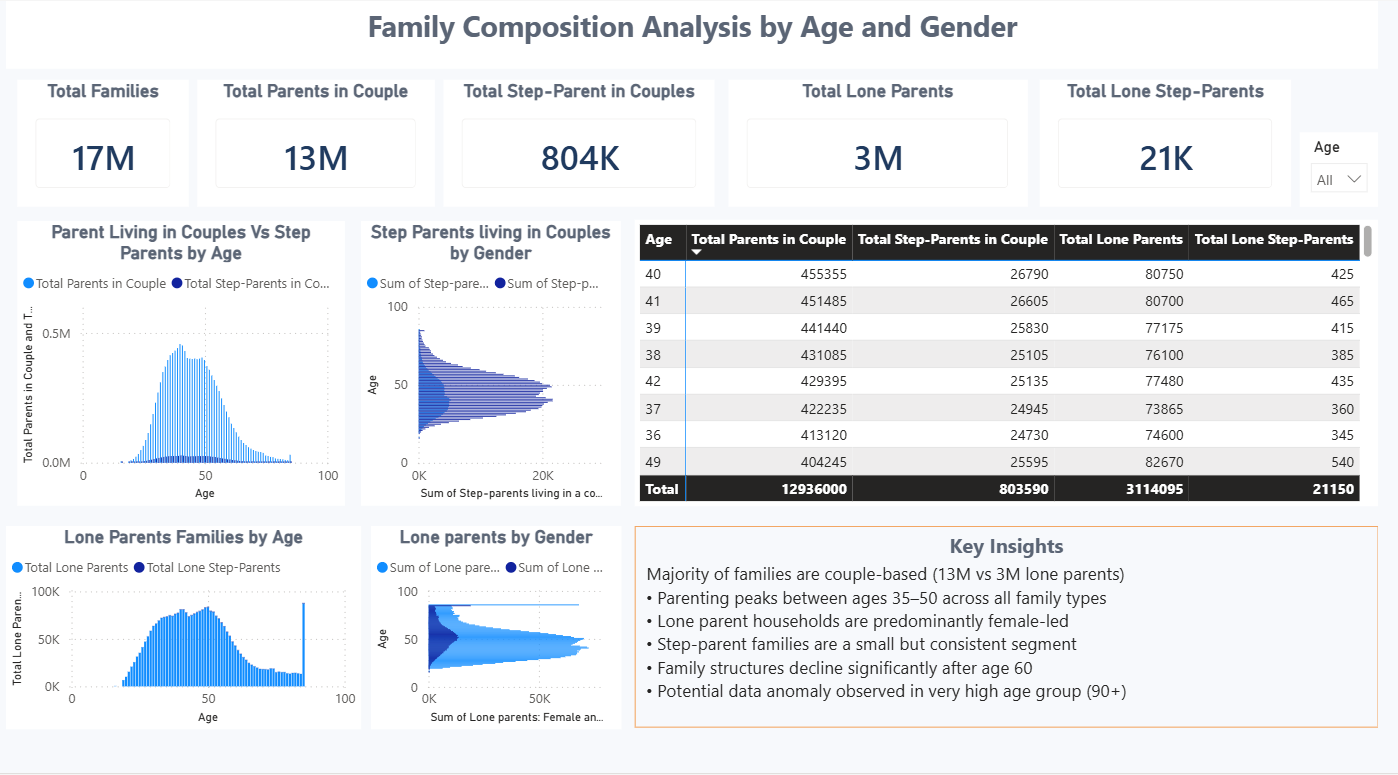

What the dashboard file says about the page in this screenshot:
{"tool":"powerbi","page":{"name":"Family Composition Analysis","canvas":[1280,720],"ordinal":2},"visuals":[{"type":"textbox","box":[0,0,1280.3,63.6],"z":1000},{"type":"cardVisual","title":"Total Families","fields":{"Data":["Dependent Children Analysis.Total Families"]},"box":[0,73.4,171.2,118.6],"z":2000},{"type":"cardVisual","title":"Total Parents in Couple","fields":{"Data":["Dependent Children Analysis.Total Parents in Couple"]},"box":[178.5,73.4,221.3,118.6],"z":3000},{"type":"cardVisual","title":"Total Step-Parent in Couples","fields":{"Data":["Dependent Children Analysis.Total Step-Parents in Couple"]},"box":[408.4,73.4,253.1,118.6],"z":4000},{"type":"cardVisual","title":"Total Lone Parents","fields":{"Data":["Dependent Children Analysis.Total Lone Parents"]},"box":[673.8,73.4,278.8,118.6],"z":5000},{"type":"cardVisual","title":"Total Lone Step-Parents","fields":{"Data":["Dependent Children Analysis.Total Lone Step-Parents"]},"box":[963.6,73.4,234.8,118.6],"z":6000},{"type":"clusteredColumnChart","title":"Parent Living in Couples Vs Step Parents by Age ","fields":{"Category":["Family Composition.Age"],"Y":["Dependent Children Analysis.Total Parents in Couple","Dependent Children Analysis.Total Step-Parents in Couple"]},"box":[0,205.4,316.7,265.4],"z":7000},{"type":"columnChart","title":" Lone Parents Families by Age","fields":{"Category":["Family Composition.Age"],"Y":["Dependent Children Analysis.Total Lone Parents","Dependent Children Analysis.Total Lone Step-Parents"]},"box":[0,489.1,331.4,189.5],"z":8000},{"type":"clusteredBarChart","title":" Lone parents by Gender","fields":{"Category":["Family Composition.Age"],"Y":["Sum(Family Composition.Lone parents: Female)","Sum(Family Composition.Lone parents: Male)"]},"box":[339.9,489.1,233.6,189.5],"z":9000},{"type":"clusteredBarChart","title":"Step Parents living in Couples by Gender","fields":{"Category":["Family Composition.Age"],"Y":["Sum(Family Composition.Step-parents living in a couple: Female)","Sum(Family Composition.Step-parents living in a couple: Male)"]},"box":[331.4,205.4,242.1,265.4],"z":10000},{"type":"slicer","fields":{"Values":["Family Composition.Age"]},"box":[1206.9,122.3,73.4,69.7],"z":11000},{"type":"pivotTable","fields":{"Rows":["Family Composition.Age"],"Values":["Dependent Children Analysis.Total Parents in Couple","Dependent Children Analysis.Total Step-Parents in Couple","Dependent Children Analysis.Total Lone Parents","Dependent Children Analysis.Total Lone Step-Parents"]},"box":[586.9,204,693.4,267.6],"z":12000},{"type":"textbox","box":[587,489.1,693.3,188.3],"z":13000}]}

Visuals, with their boxes in screenshot pixels (x1, y1, x2, y2), scaled from the page's 1280x720 canvas onto the 1398x775 screenshot:
textbox: region(0, 0, 1397, 68)
"Total Families" cardVisual: region(0, 79, 187, 207)
"Total Parents in Couple" cardVisual: region(195, 79, 437, 207)
"Total Step-Parent in Couples" cardVisual: region(446, 79, 722, 207)
"Total Lone Parents" cardVisual: region(736, 79, 1040, 207)
"Total Lone Step-Parents" cardVisual: region(1052, 79, 1309, 207)
"Parent Living in Couples Vs Step Parents by Age " clusteredColumnChart: region(0, 221, 346, 507)
" Lone Parents Families by Age" columnChart: region(0, 526, 362, 730)
" Lone parents by Gender" clusteredBarChart: region(371, 526, 626, 730)
"Step Parents living in Couples by Gender" clusteredBarChart: region(362, 221, 626, 507)
slicer - Family Composition.Age: region(1318, 132, 1397, 207)
pivotTable - Family Composition.Age x Dependent Children Analysis.Total Parents in Couple: region(641, 220, 1397, 508)
textbox: region(641, 526, 1397, 729)
